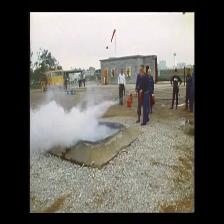smoke: (32, 110, 98, 140)
